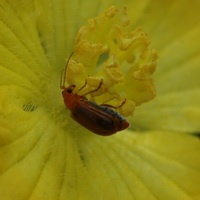insect: (60, 52, 128, 135)
